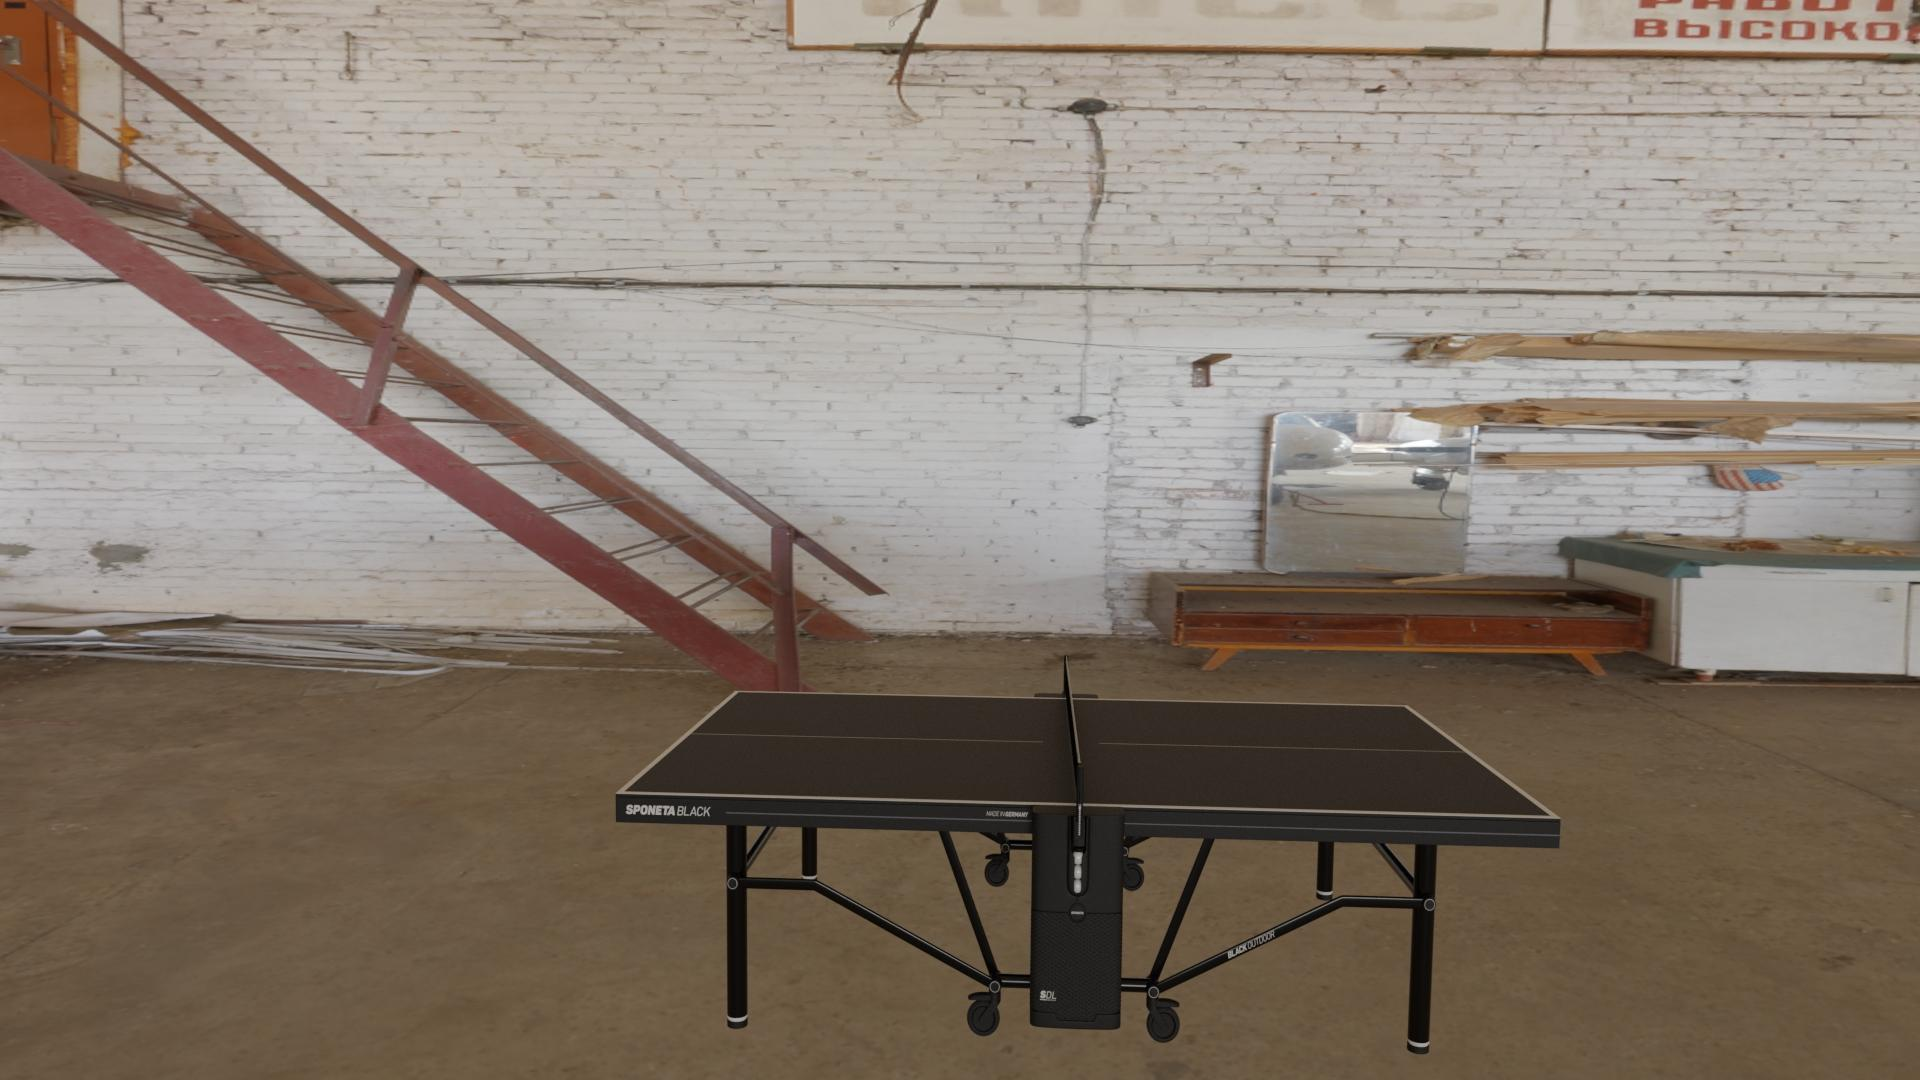table: (624, 692, 1551, 816)
